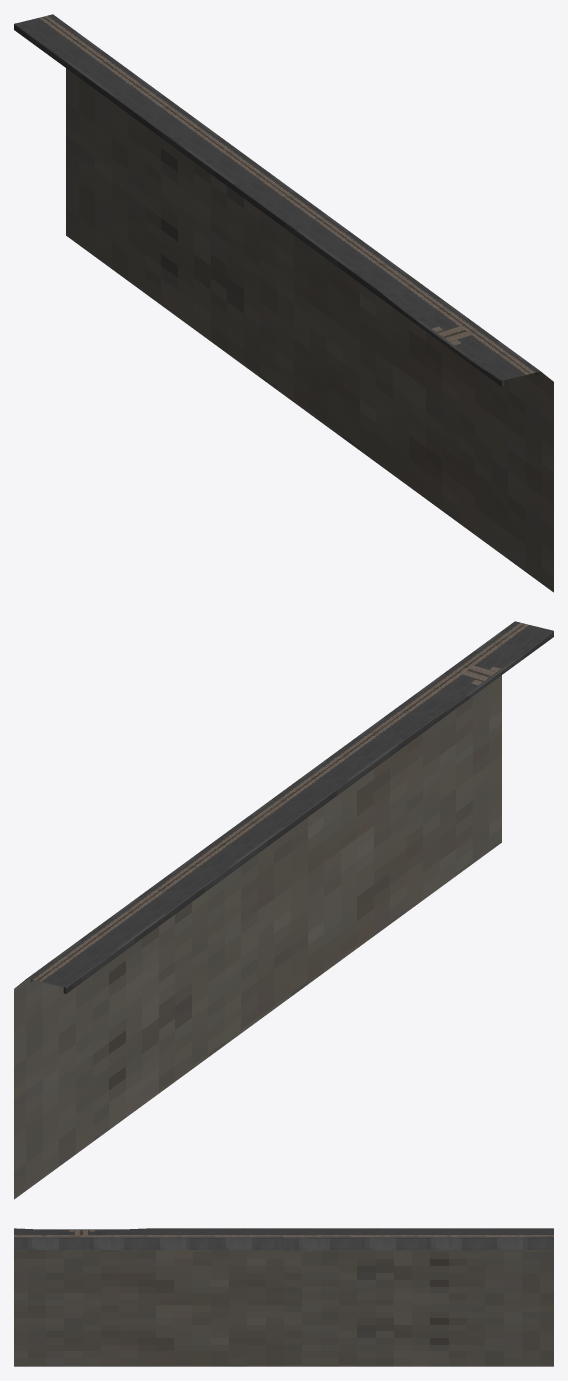
The model's file is sidewalk_lod.fbx.
3 views of the same model, one above another, from view 1: azimuth 30°, elevation 25°; view 2: azimuth 150°, elevation 25°; view 3: azimuth 270°, elevation 25° (orthographic). The views are drawn at different scales.
Visible parts, largest first — view 1: NodeSidewalk_lod; view 2: NodeSidewalk_lod; view 3: NodeSidewalk_lod.
Boxes of the visible parts, <box> form: NodeSidewalk_lod: <box>14,14,553,592</box>; NodeSidewalk_lod: <box>14,621,553,1199</box>; NodeSidewalk_lod: <box>14,1228,553,1366</box>.
Bounding box in the file's own units: 395 × 1626 × 6400.
